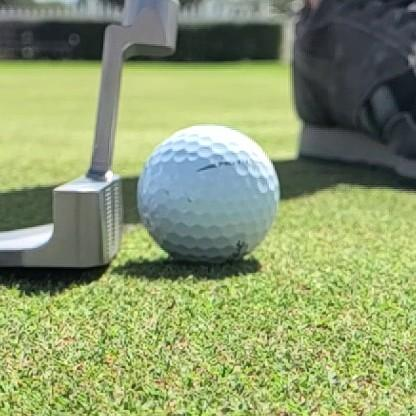golfball: (136, 125, 279, 264)
